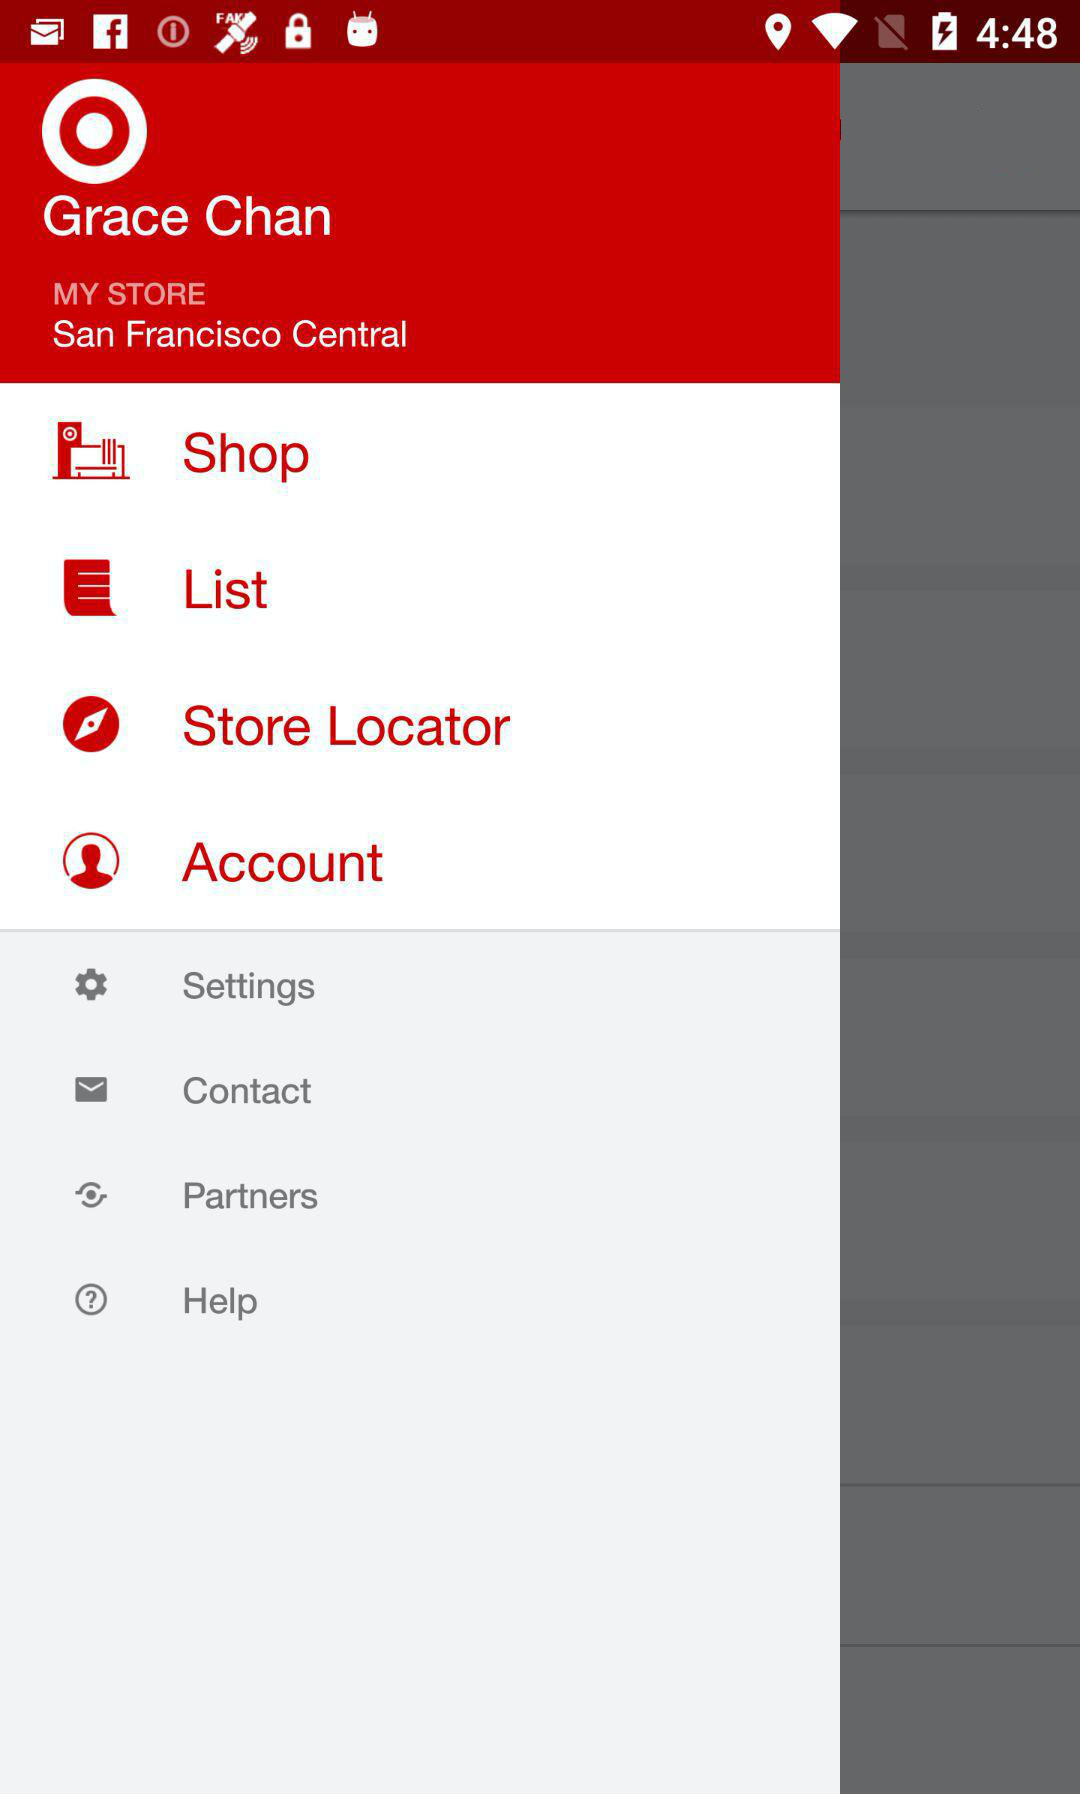Drawer: (1, 64, 839, 1793)
Icon: (63, 832, 122, 891), (63, 696, 120, 753), (64, 559, 119, 618), (76, 1283, 109, 1317), (76, 967, 109, 1002), (76, 1076, 109, 1103)
Image: (53, 422, 133, 481), (76, 1181, 109, 1208)
Text: (184, 704, 511, 748), (44, 193, 332, 238), (53, 319, 407, 351), (182, 841, 386, 884), (183, 431, 310, 484), (183, 971, 316, 1008), (184, 1181, 319, 1211), (54, 282, 208, 308), (183, 1076, 313, 1106), (184, 568, 269, 611), (184, 1287, 259, 1322)
UpperTaskBar: (1, 1, 1080, 64)
